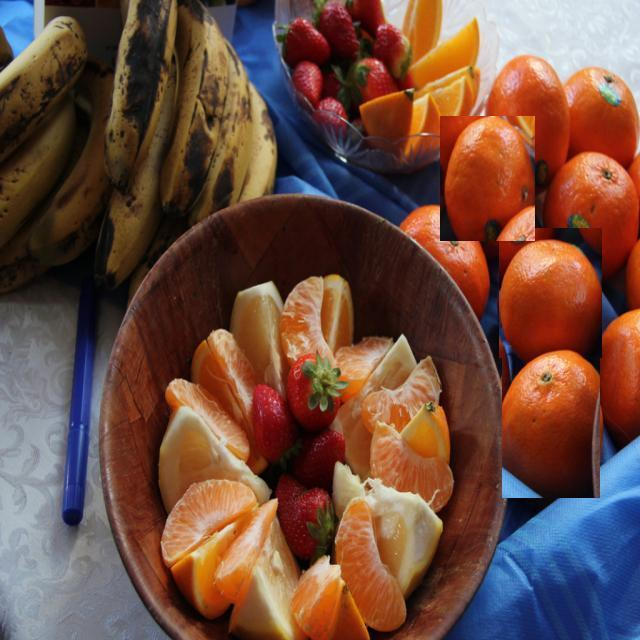Orange: (502, 345, 600, 498), (499, 228, 602, 358), (394, 200, 497, 318), (440, 116, 535, 241), (486, 59, 572, 178), (554, 156, 634, 270), (568, 61, 640, 160), (630, 244, 640, 312)
